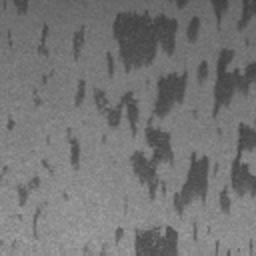Red iron sheet: (69, 0, 256, 256), (0, 125, 82, 248), (1, 0, 29, 49), (28, 67, 55, 108), (70, 24, 84, 60), (35, 24, 49, 55), (5, 118, 15, 133), (81, 0, 88, 9)
